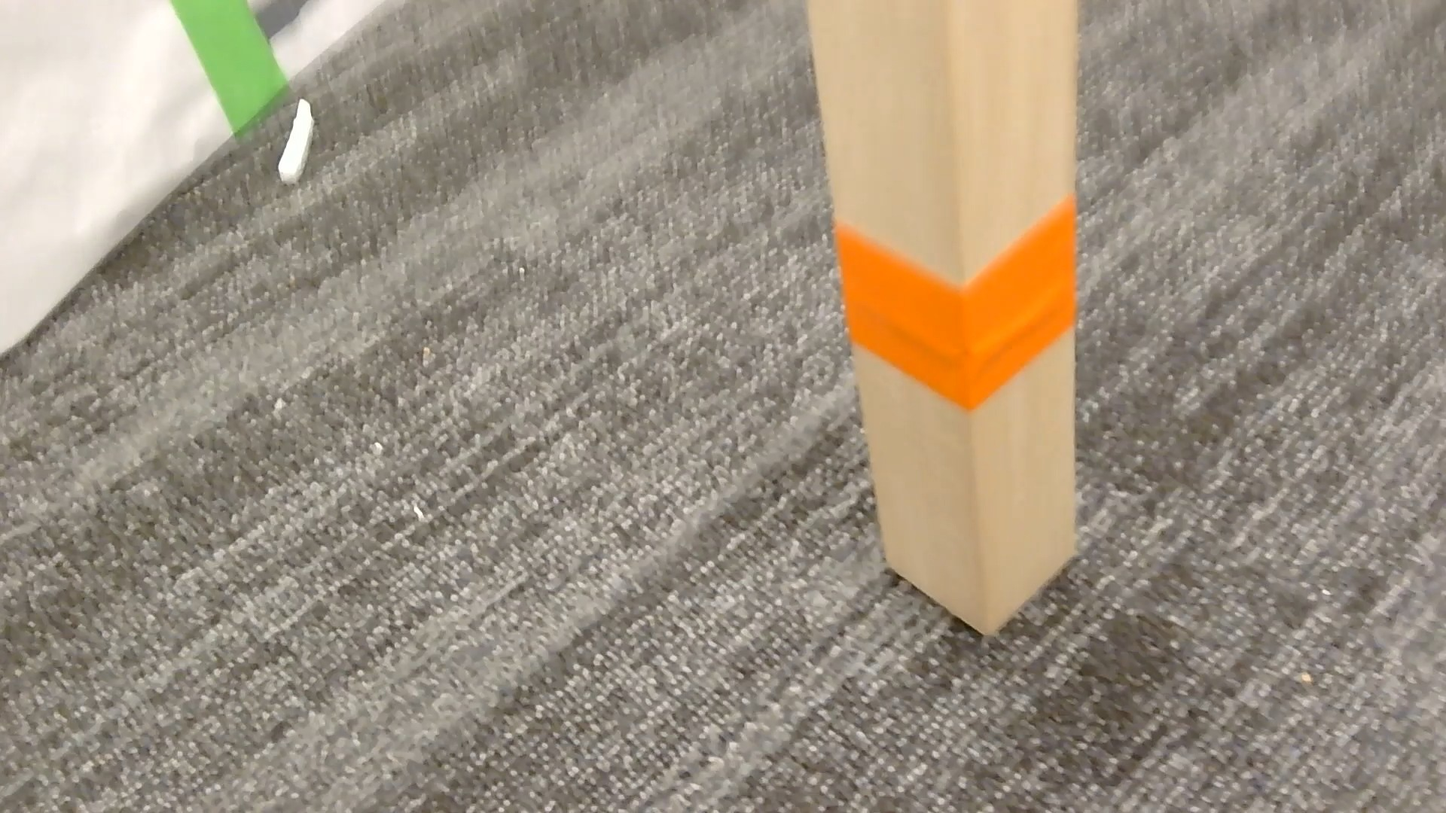Wooden Block: (806, 0, 1078, 633)
